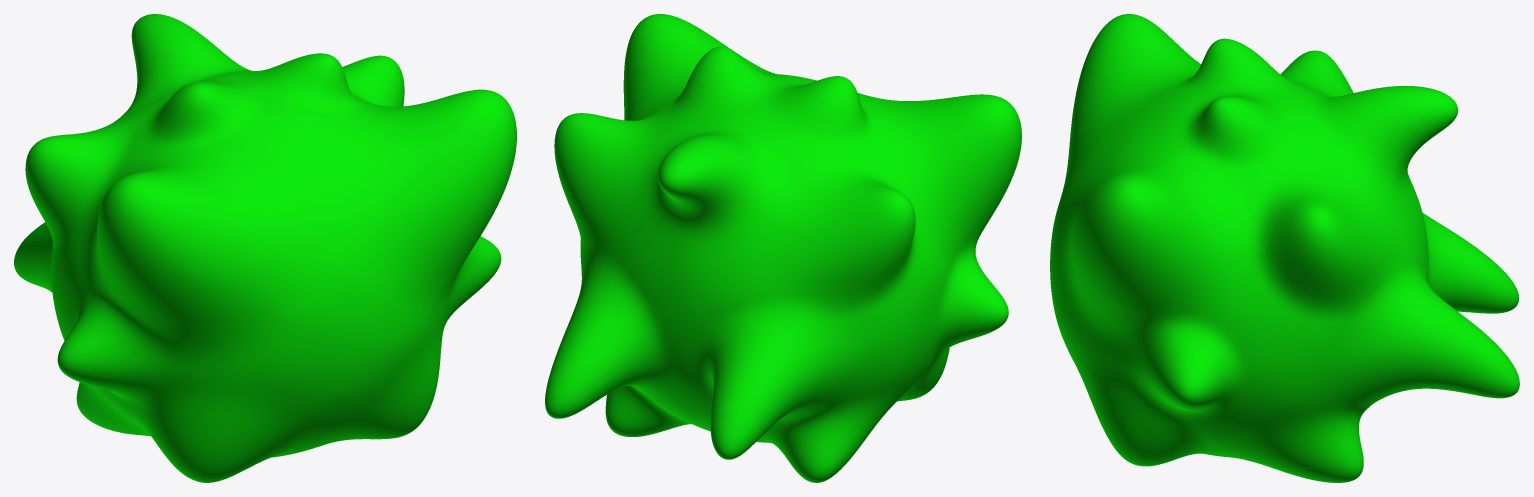
3 renders of one model, left to right at view 1: azimuth 30°, elevation 25°; view 2: azimuth 150°, elevation 25°; view 3: azimuth 270°, elevation 25°, orthographic. The views are drawn at different scales.
Visible parts, largest first — view 1: #1; view 2: #1; view 3: #1.
Boxes of the visible parts, box(x1,y1,x2,y2) form: #1: box(14, 14, 516, 482); #1: box(545, 14, 1021, 482); #1: box(1050, 14, 1519, 482).
Size of the model in its own units: 0.2433 by 0.1985 by 0.2292.
